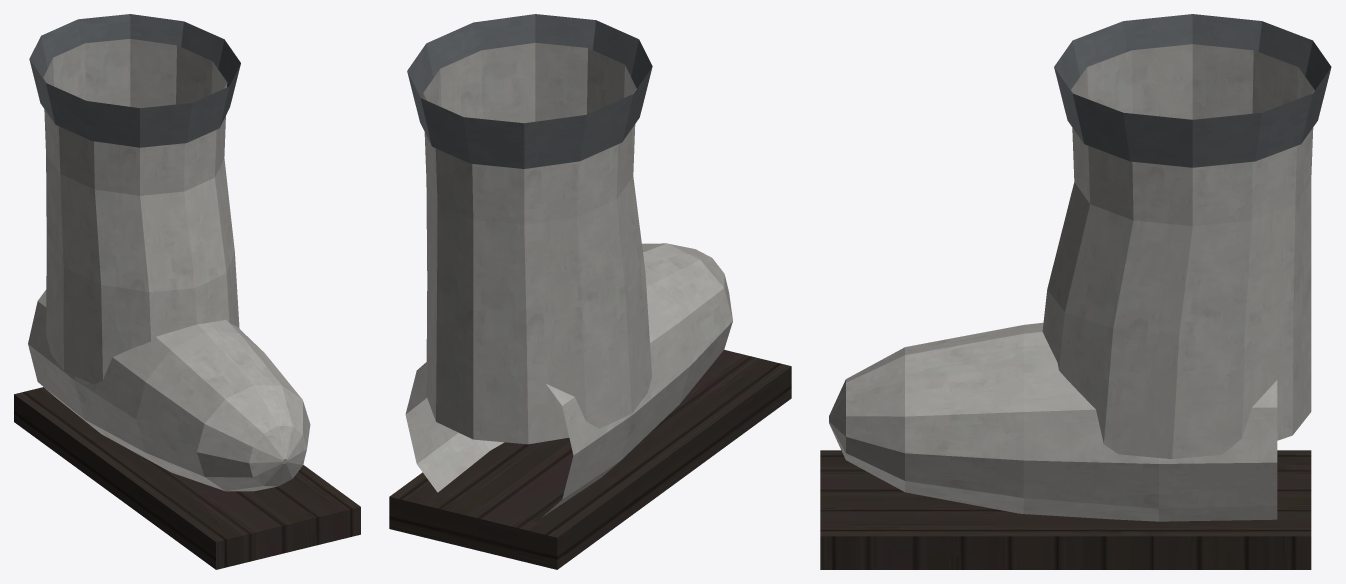
Rendered from eq_future_1_boot.glb.
3 renders of one model, left to right at view 1: azimuth 30°, elevation 25°; view 2: azimuth 150°, elevation 25°; view 3: azimuth 270°, elevation 25°, orthographic. The views are drawn at different scales.
Parts seen in each view (by area): view 1: eq_future_1_boot; view 2: eq_future_1_boot; view 3: eq_future_1_boot.
Part boxes in pixels (bbox=[...]): eq_future_1_boot: bbox=[14, 14, 360, 569]; eq_future_1_boot: bbox=[389, 14, 791, 569]; eq_future_1_boot: bbox=[820, 14, 1331, 569].
Size of the model in its own units: 0.148 by 0.3 by 0.302.
Materials: 3 (3 with a texture image).
